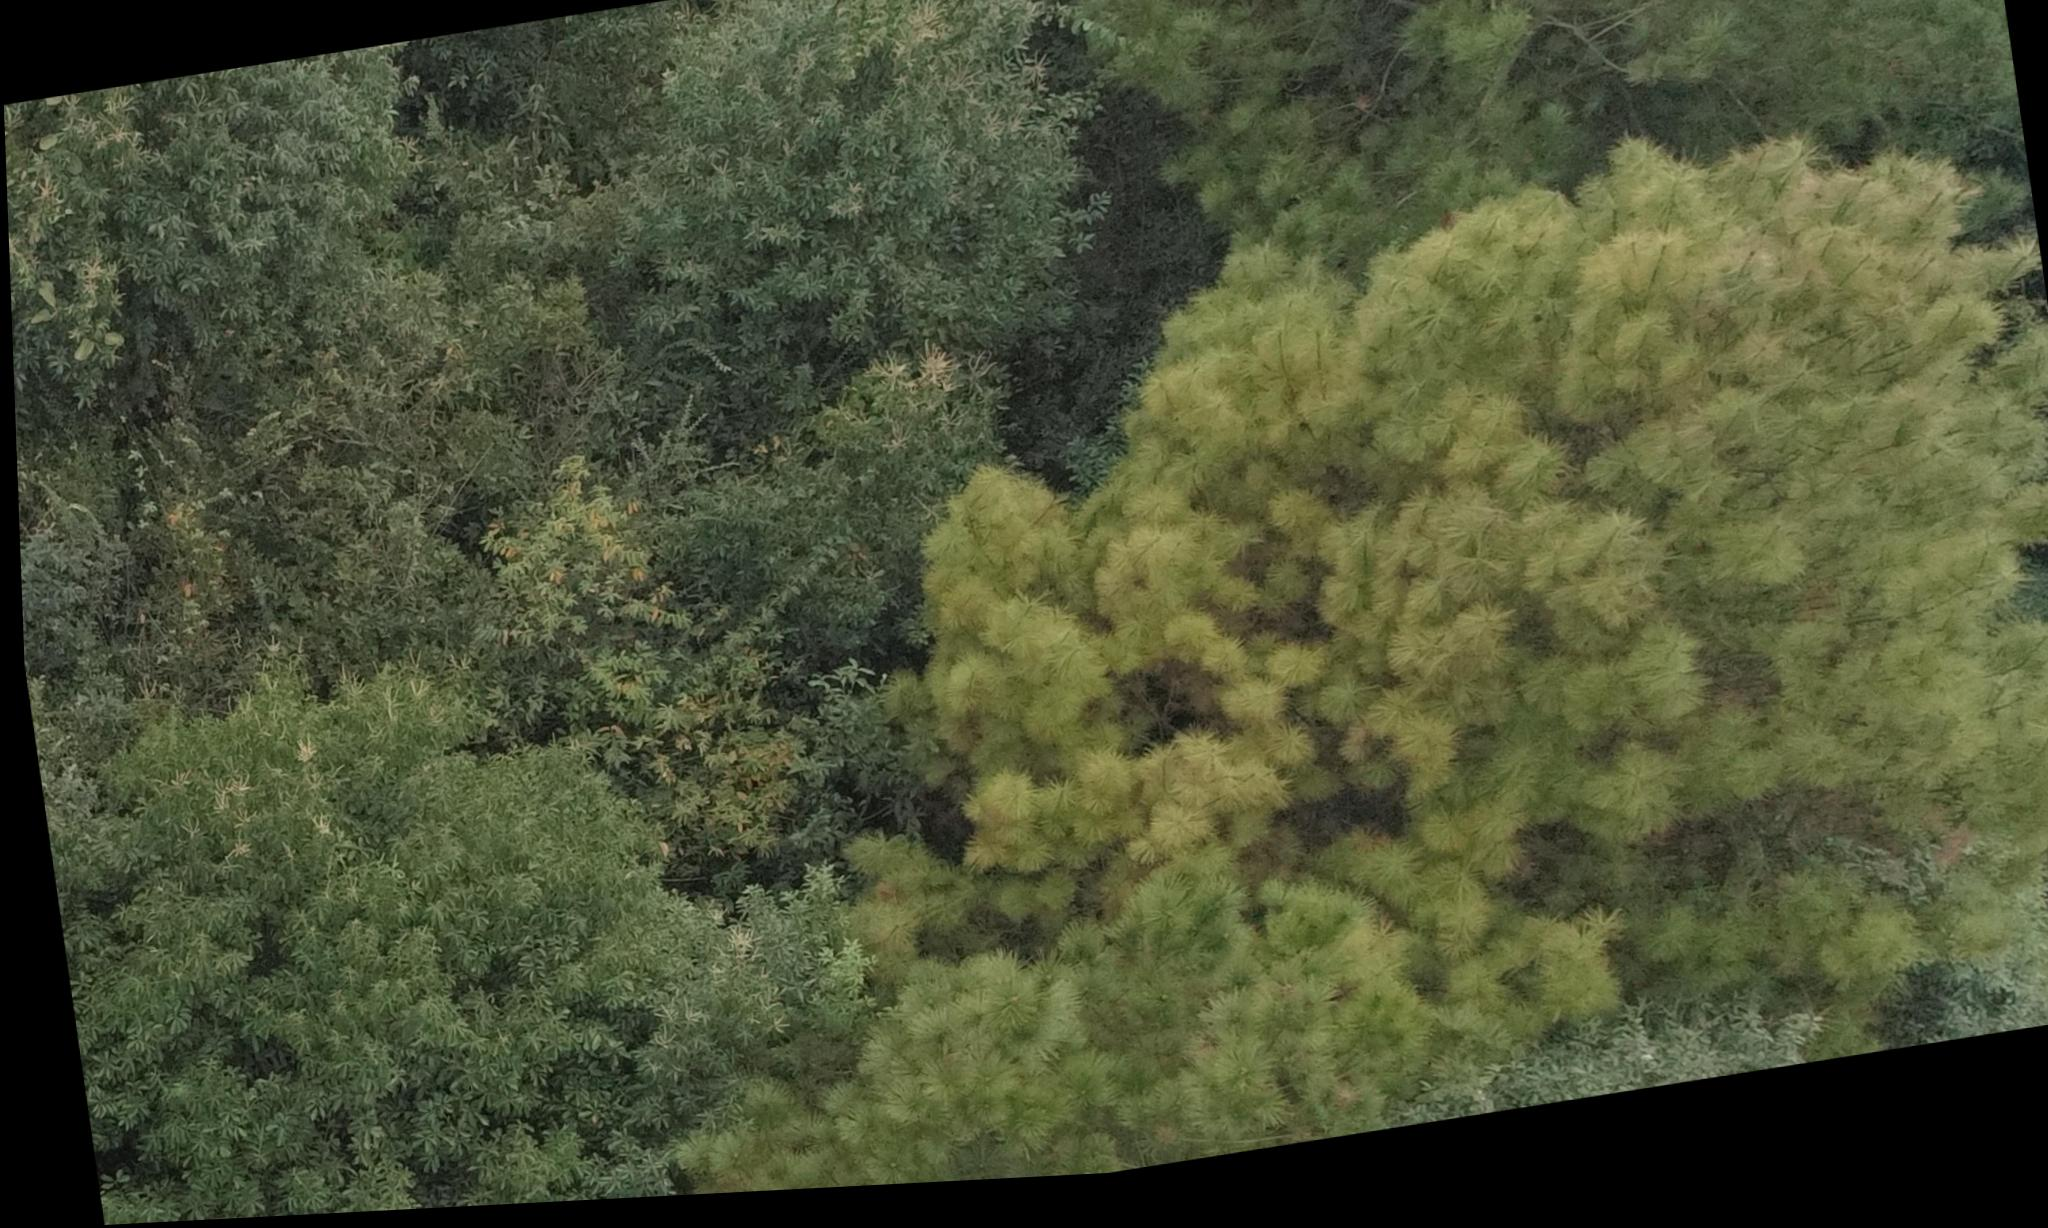light: (884, 425, 1345, 978)
